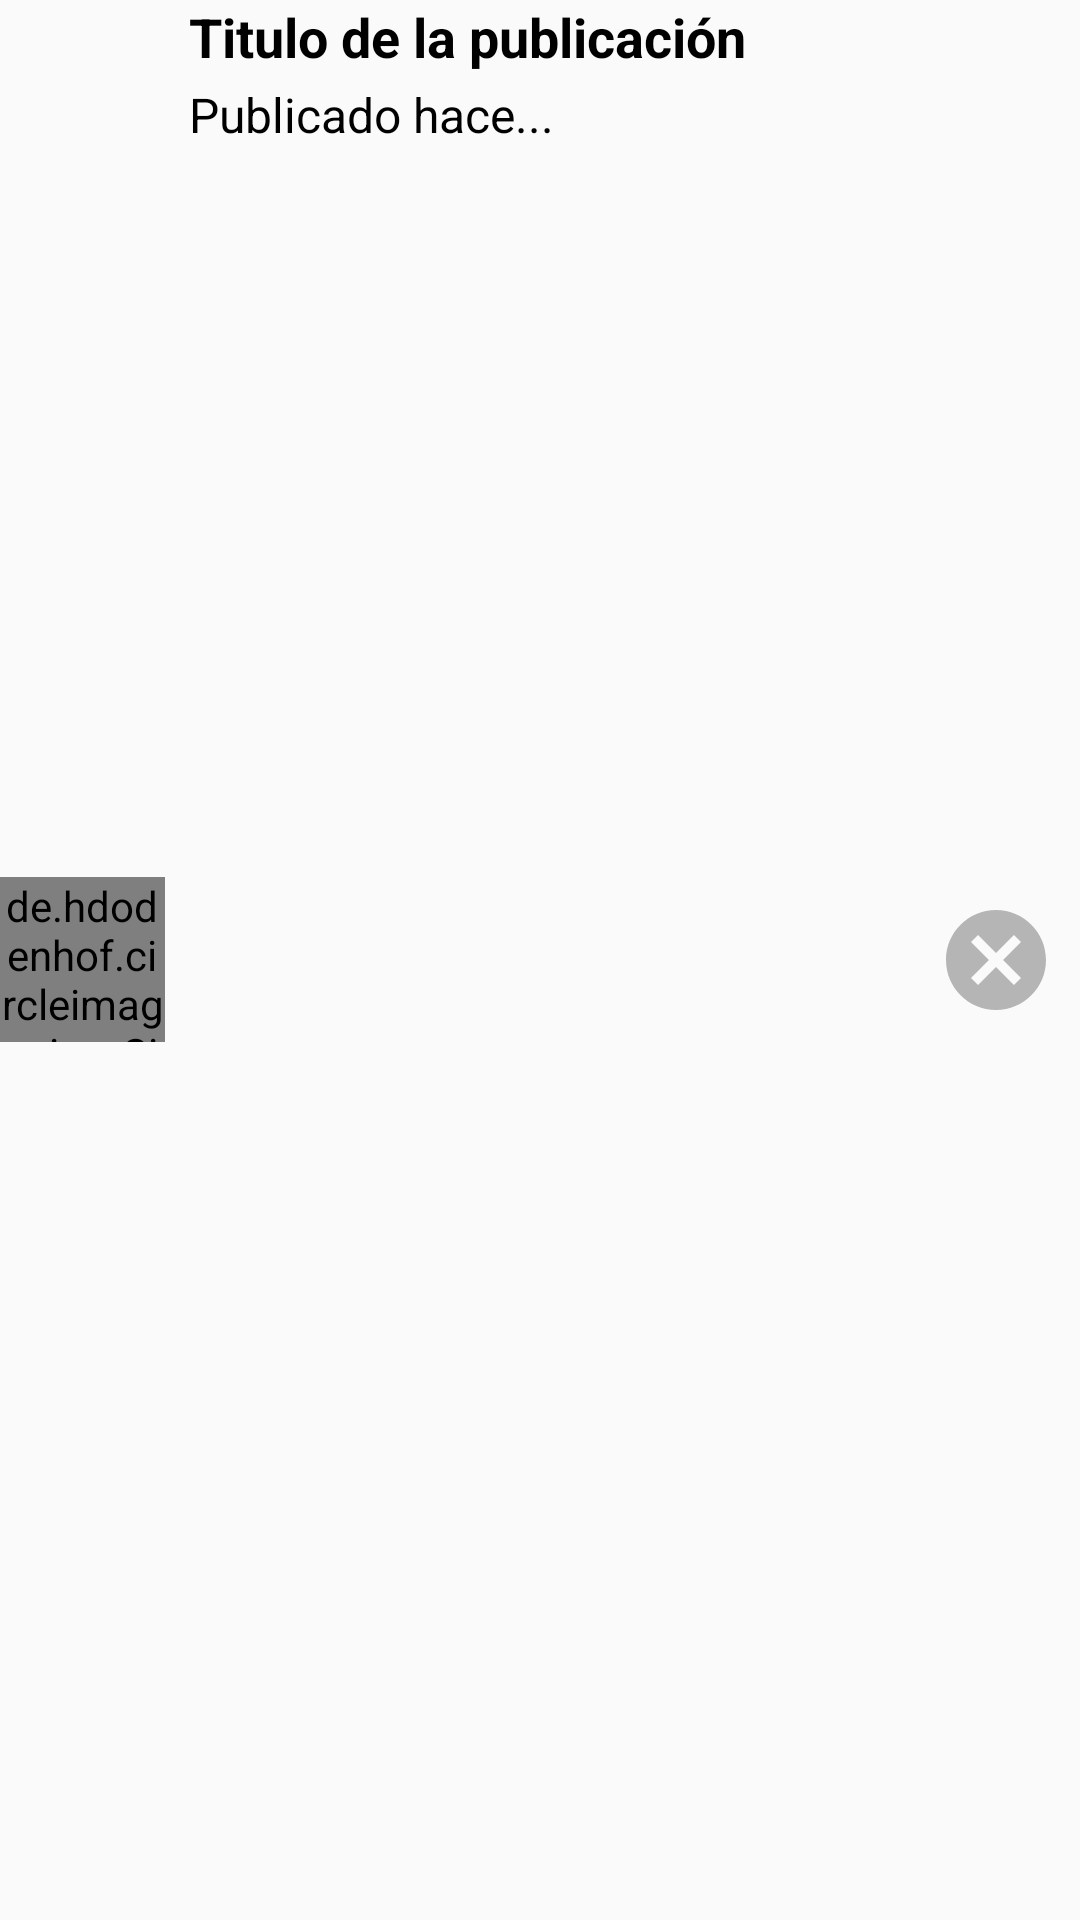

Icons on this 1080 × 1920 Android screen, each with its box as {"left": x1, "top": y1, "right": x2, "bottom": y2}:
cancel: {"left": 946, "top": 910, "right": 1046, "bottom": 1010}
